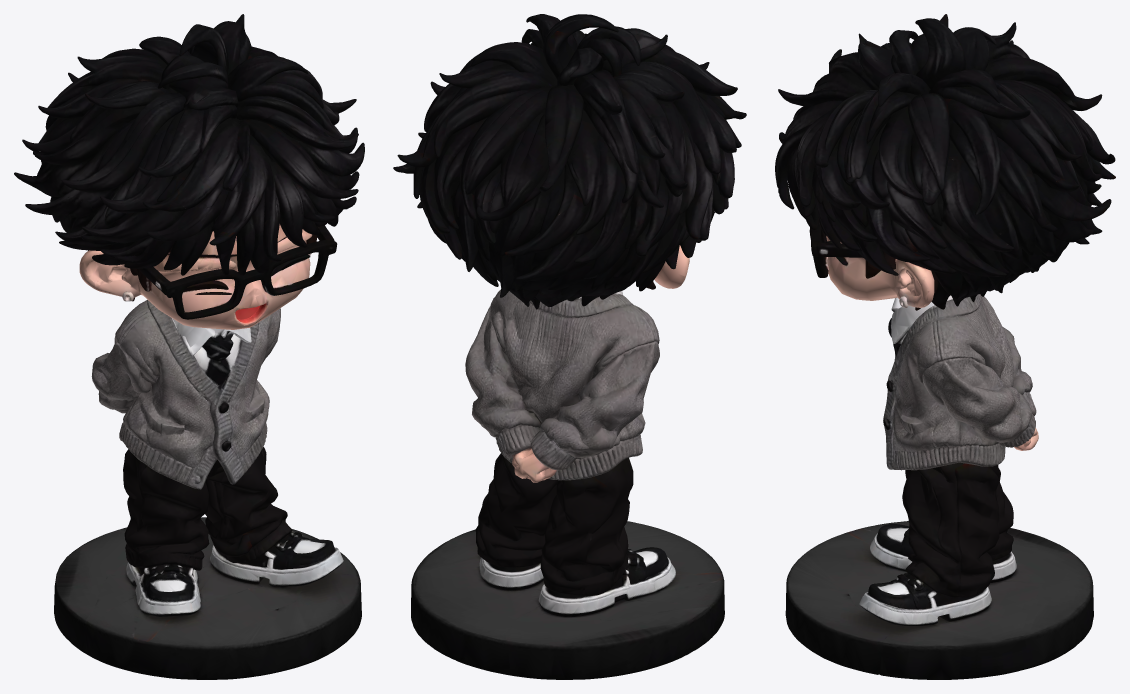
File: grey.glb
The picture shows the model from 3 angles, left to right: view 1: azimuth 30°, elevation 25°; view 2: azimuth 150°, elevation 25°; view 3: azimuth 270°, elevation 25°; orthographic projection.
Visible parts, largest first — view 1: model; view 2: model; view 3: model.
Part boxes in pixels (x1,y1,x2,y2): model: (14,14,364,679); model: (393,14,746,679); model: (775,14,1115,679).
Bounding box in the file's own units: 1.01 × 1.9 × 0.9946.
1 material, 1 textured.
